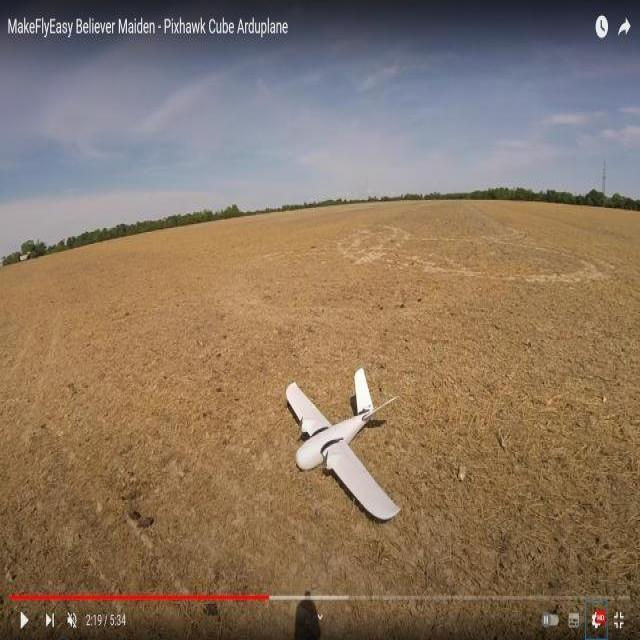iha: (271, 379, 431, 511)
